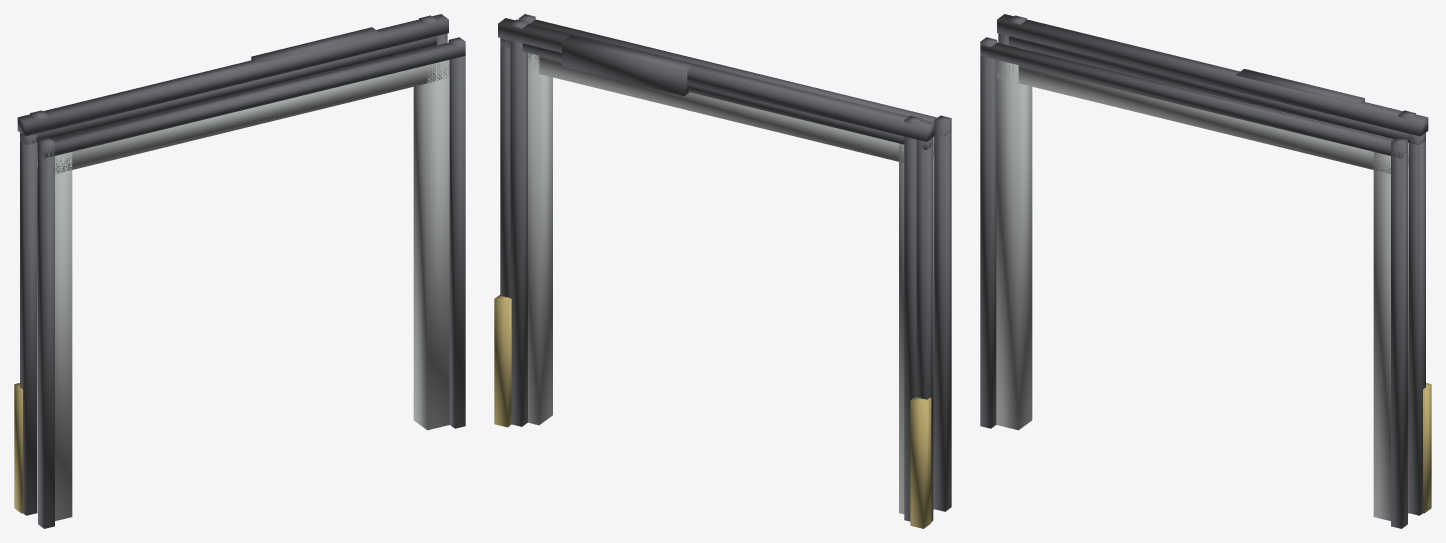
File: bay_opening_service_bay_w300_h280_d20.glb
3 views of the same model, side by side, from view 1: azimuth 30°, elevation 25°; view 2: azimuth 150°, elevation 25°; view 3: azimuth 330°, elevation 25° (orthographic).
Visible parts, largest first — view 1: world; view 2: world; view 3: world.
Part boxes in pixels (left/top/right/bottom): world: left=14, top=14, right=465, bottom=528; world: left=494, top=14, right=951, bottom=528; world: left=980, top=14, right=1431, bottom=528.
Size of the model in its own units: 3.58 by 3.19 by 0.422.
